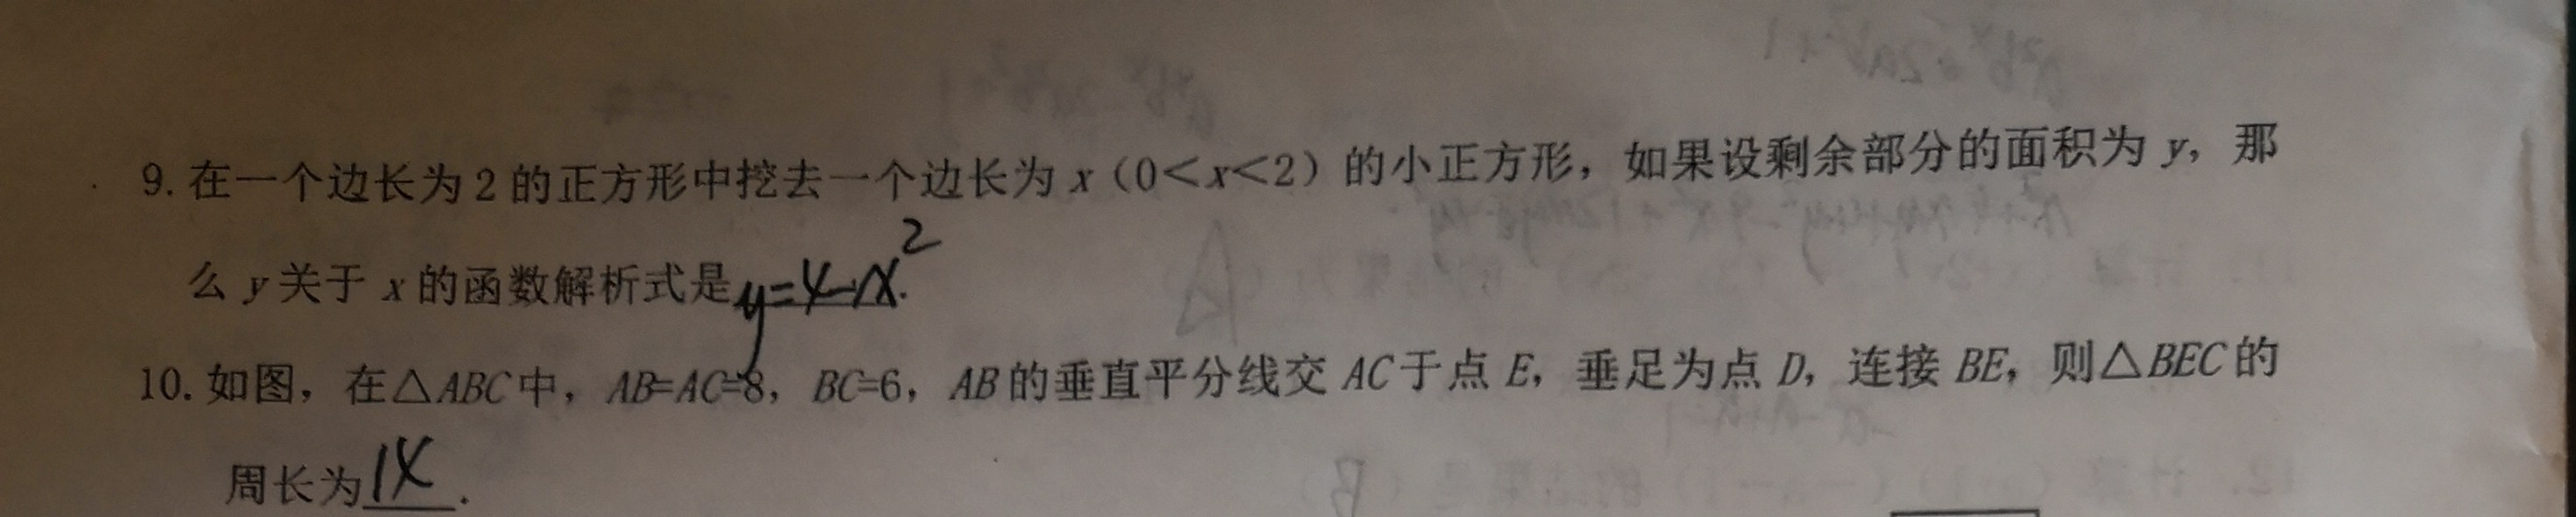text: (118, 121, 2333, 205), (131, 328, 2336, 405), (163, 213, 987, 346), (194, 432, 509, 514)
